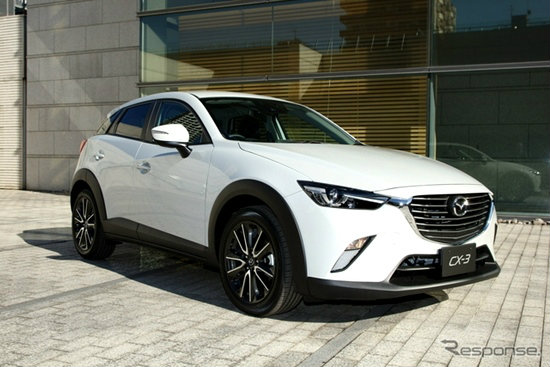pickup: (67, 88, 502, 318)
